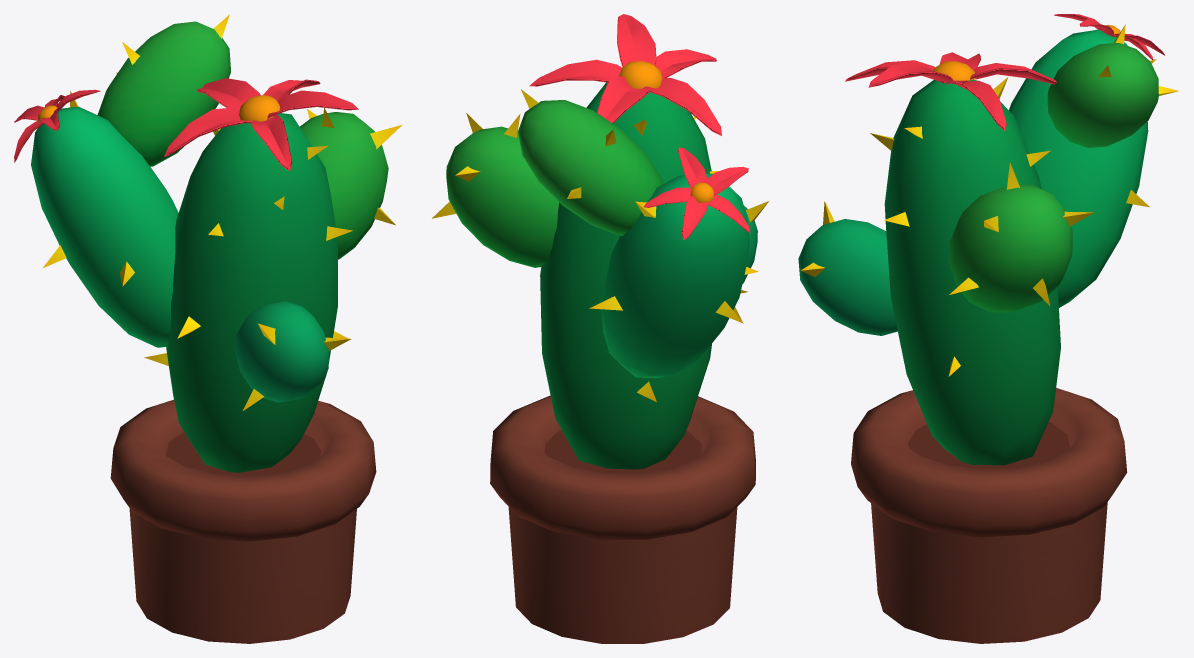
File: Cactus_001.fbx
3 views of the same model, side by side, from view 1: azimuth 30°, elevation 25°; view 2: azimuth 150°, elevation 25°; view 3: azimuth 270°, elevation 25° (orthographic). The views are drawn at different scales.
Visible parts, largest first — view 1: Cactus_001; view 2: Cactus_001; view 3: Cactus_001.
Boxes of the visible parts, box(x1,y1,x2,y2) form: Cactus_001: box(14, 14, 401, 643); Cactus_001: box(432, 14, 768, 643); Cactus_001: box(798, 14, 1178, 643).
Size of the model in its own units: 40.38 by 38.1 by 61.11.
